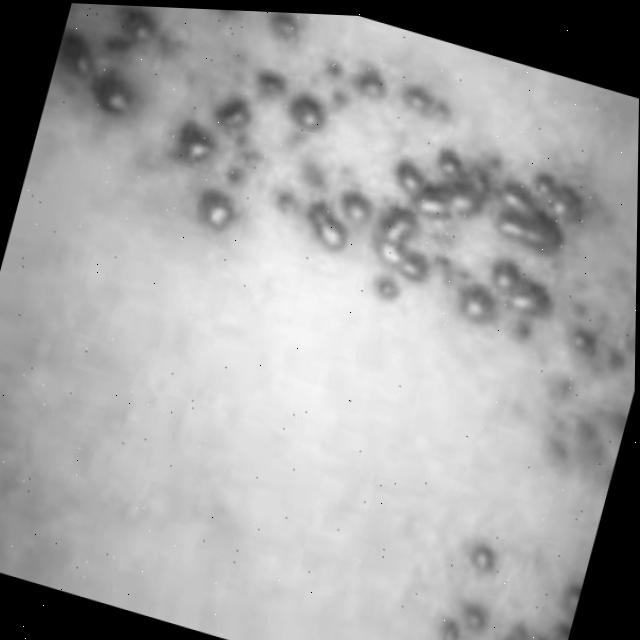Shingles: (0, 0, 640, 457), (431, 536, 577, 640)
